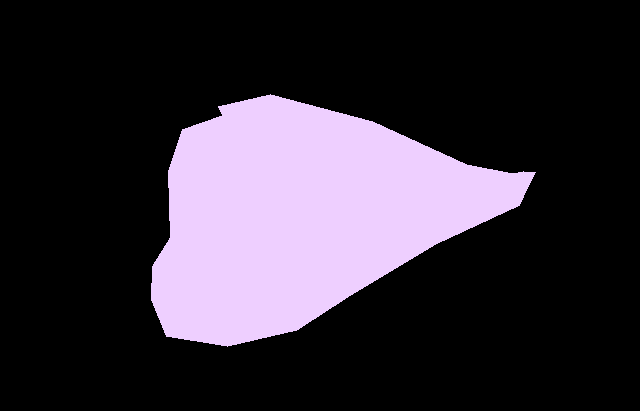Train: (151, 94, 536, 347)
